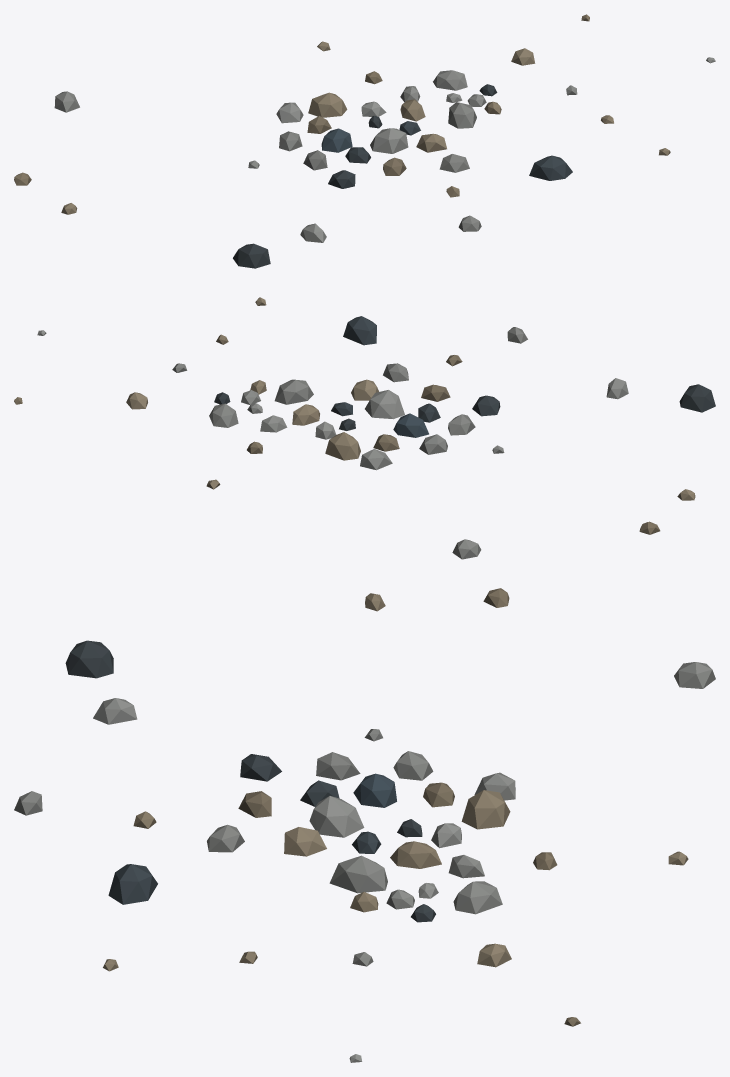
File: lake-pebbles-6c0359.glb
3 renders of one model, top to bottom at view 1: azimuth 30°, elevation 25°; view 2: azimuth 150°, elevation 25°; view 3: azimuth 270°, elevation 25°, orthographic. The views are drawn at different scales.
Parts seen in each view (by area): view 1: pebbles; view 2: pebbles; view 3: pebbles.
Part boxes in pixels (box(x1,y1,x2,y2)): pebbles: box(14, 14, 715, 268); pebbles: box(14, 297, 715, 559); pebbles: box(14, 588, 715, 1062).
Size of the model in its own units: 2.99 by 0.086 by 1.9.
